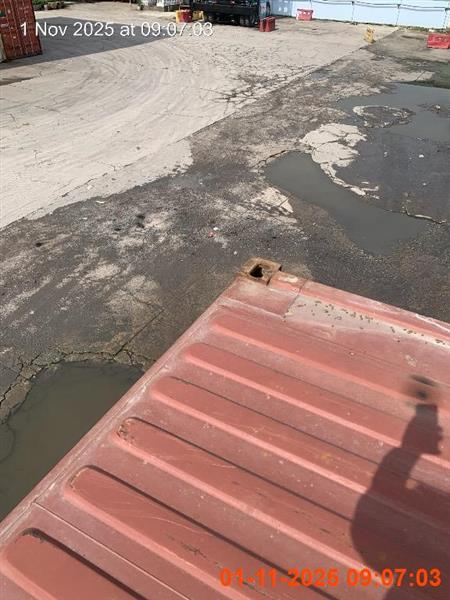broken: (0, 255, 449, 599), (1, 255, 449, 599)
